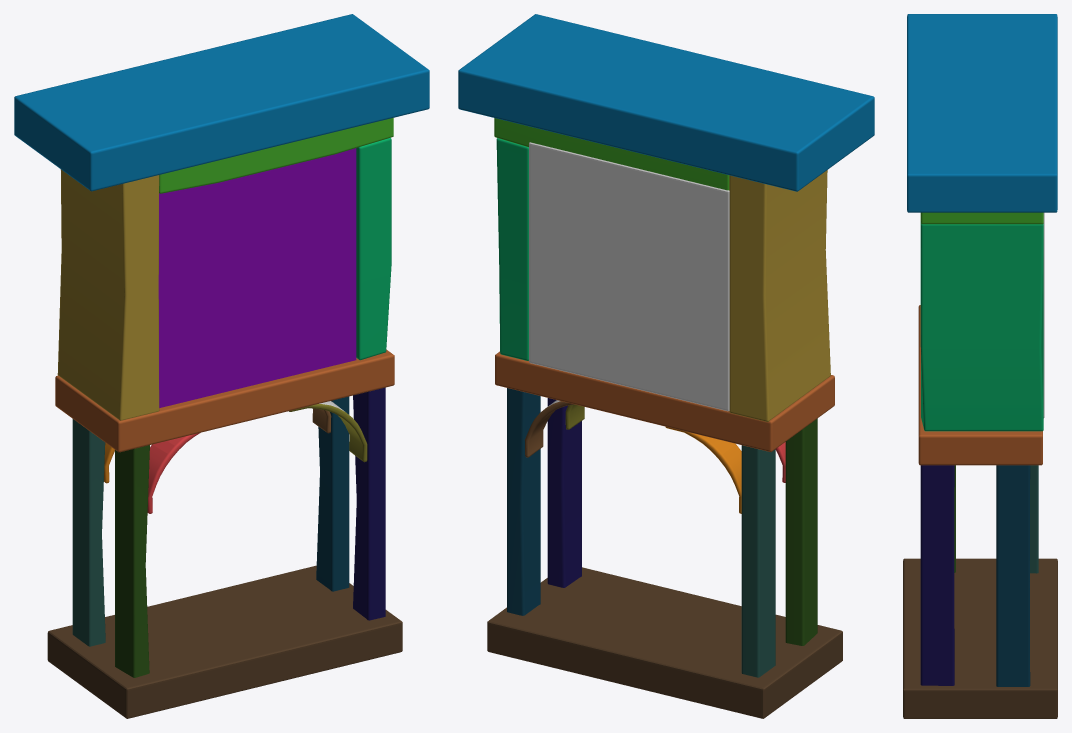
File: Cabinet_Style_01.fbx
3 views of the same model, side by side, from view 1: azimuth 30°, elevation 25°; view 2: azimuth 150°, elevation 25°; view 3: azimuth 270°, elevation 25° (orthographic). The views are drawn at different scales.
Visible parts, largest first — view 1: SetA_Cabinet_Style_01; view 2: SetA_Cabinet_Style_01; view 3: SetA_Cabinet_Style_01.
Part boxes in pixels (<box>): SetA_Cabinet_Style_01: <box>14,14,429,718</box>; SetA_Cabinet_Style_01: <box>458,14,874,718</box>; SetA_Cabinet_Style_01: <box>903,14,1057,718</box>.
Size of the model in its own units: 0.7456 by 1.2 by 0.3025.
